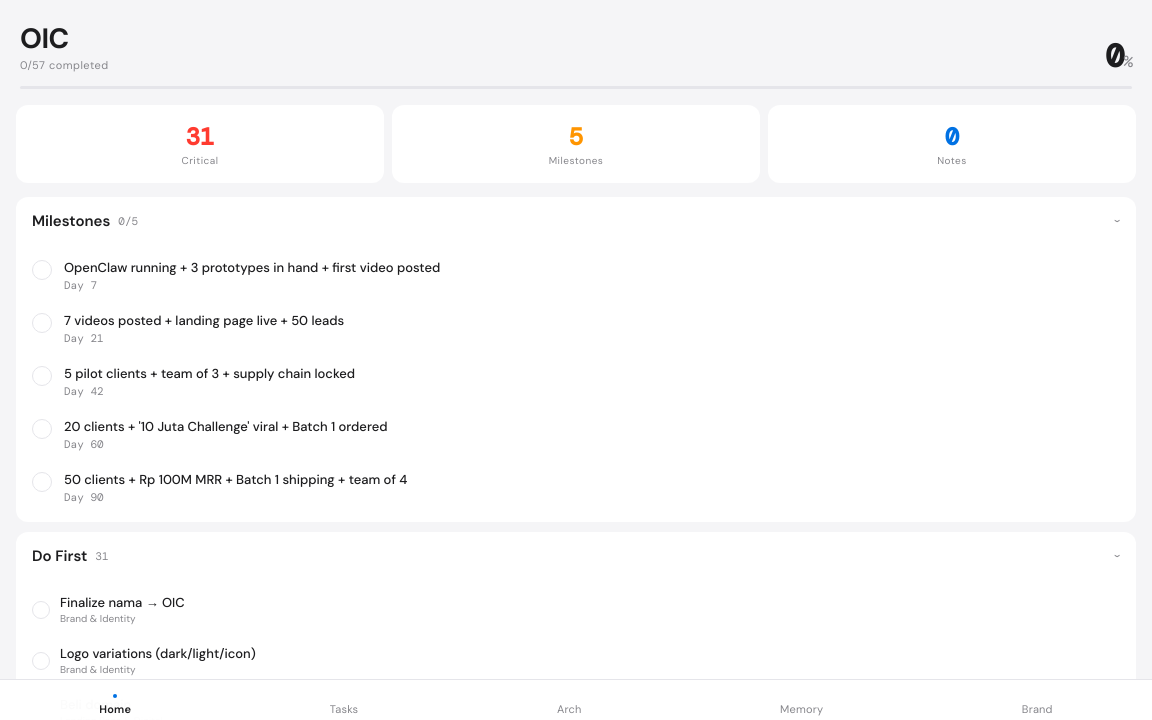
Scenario: App › switches to memory tab on click
Click the button "Memory". click: (802, 705)
box: [764,690,839,719]
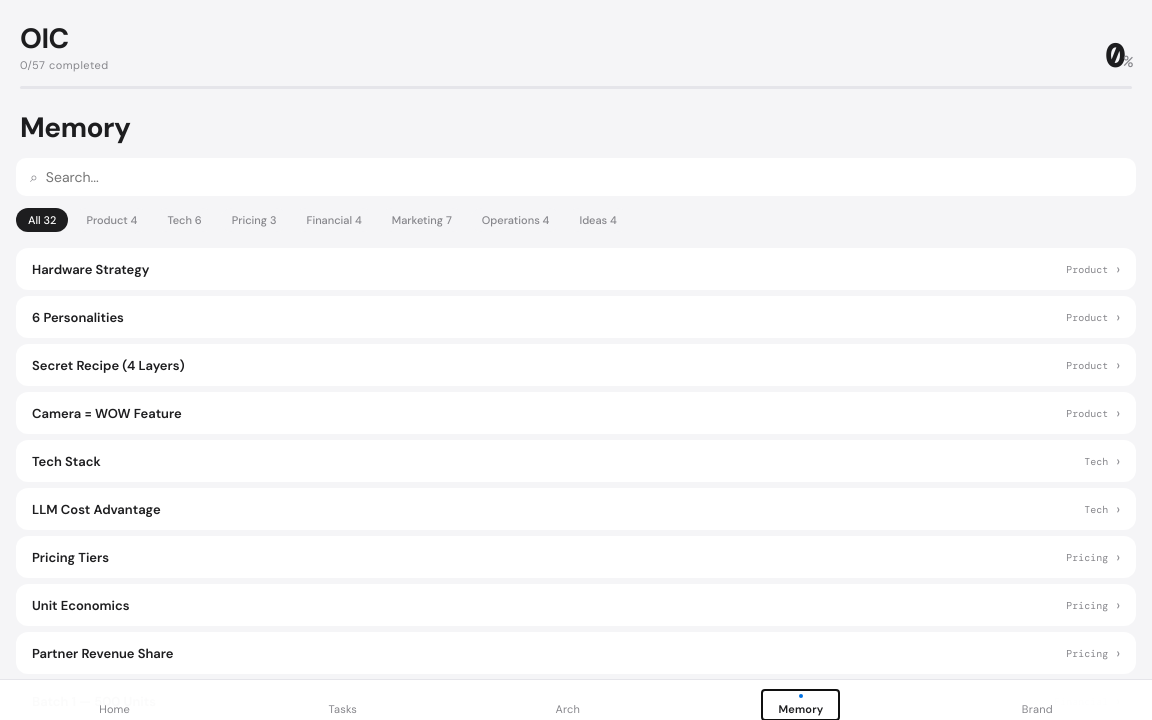
Expected: the field with placeholder "Search..." is shown, [46,168,1122,186]
Expected: the text "Hardware Strategy" is shown, [32,260,149,278]
